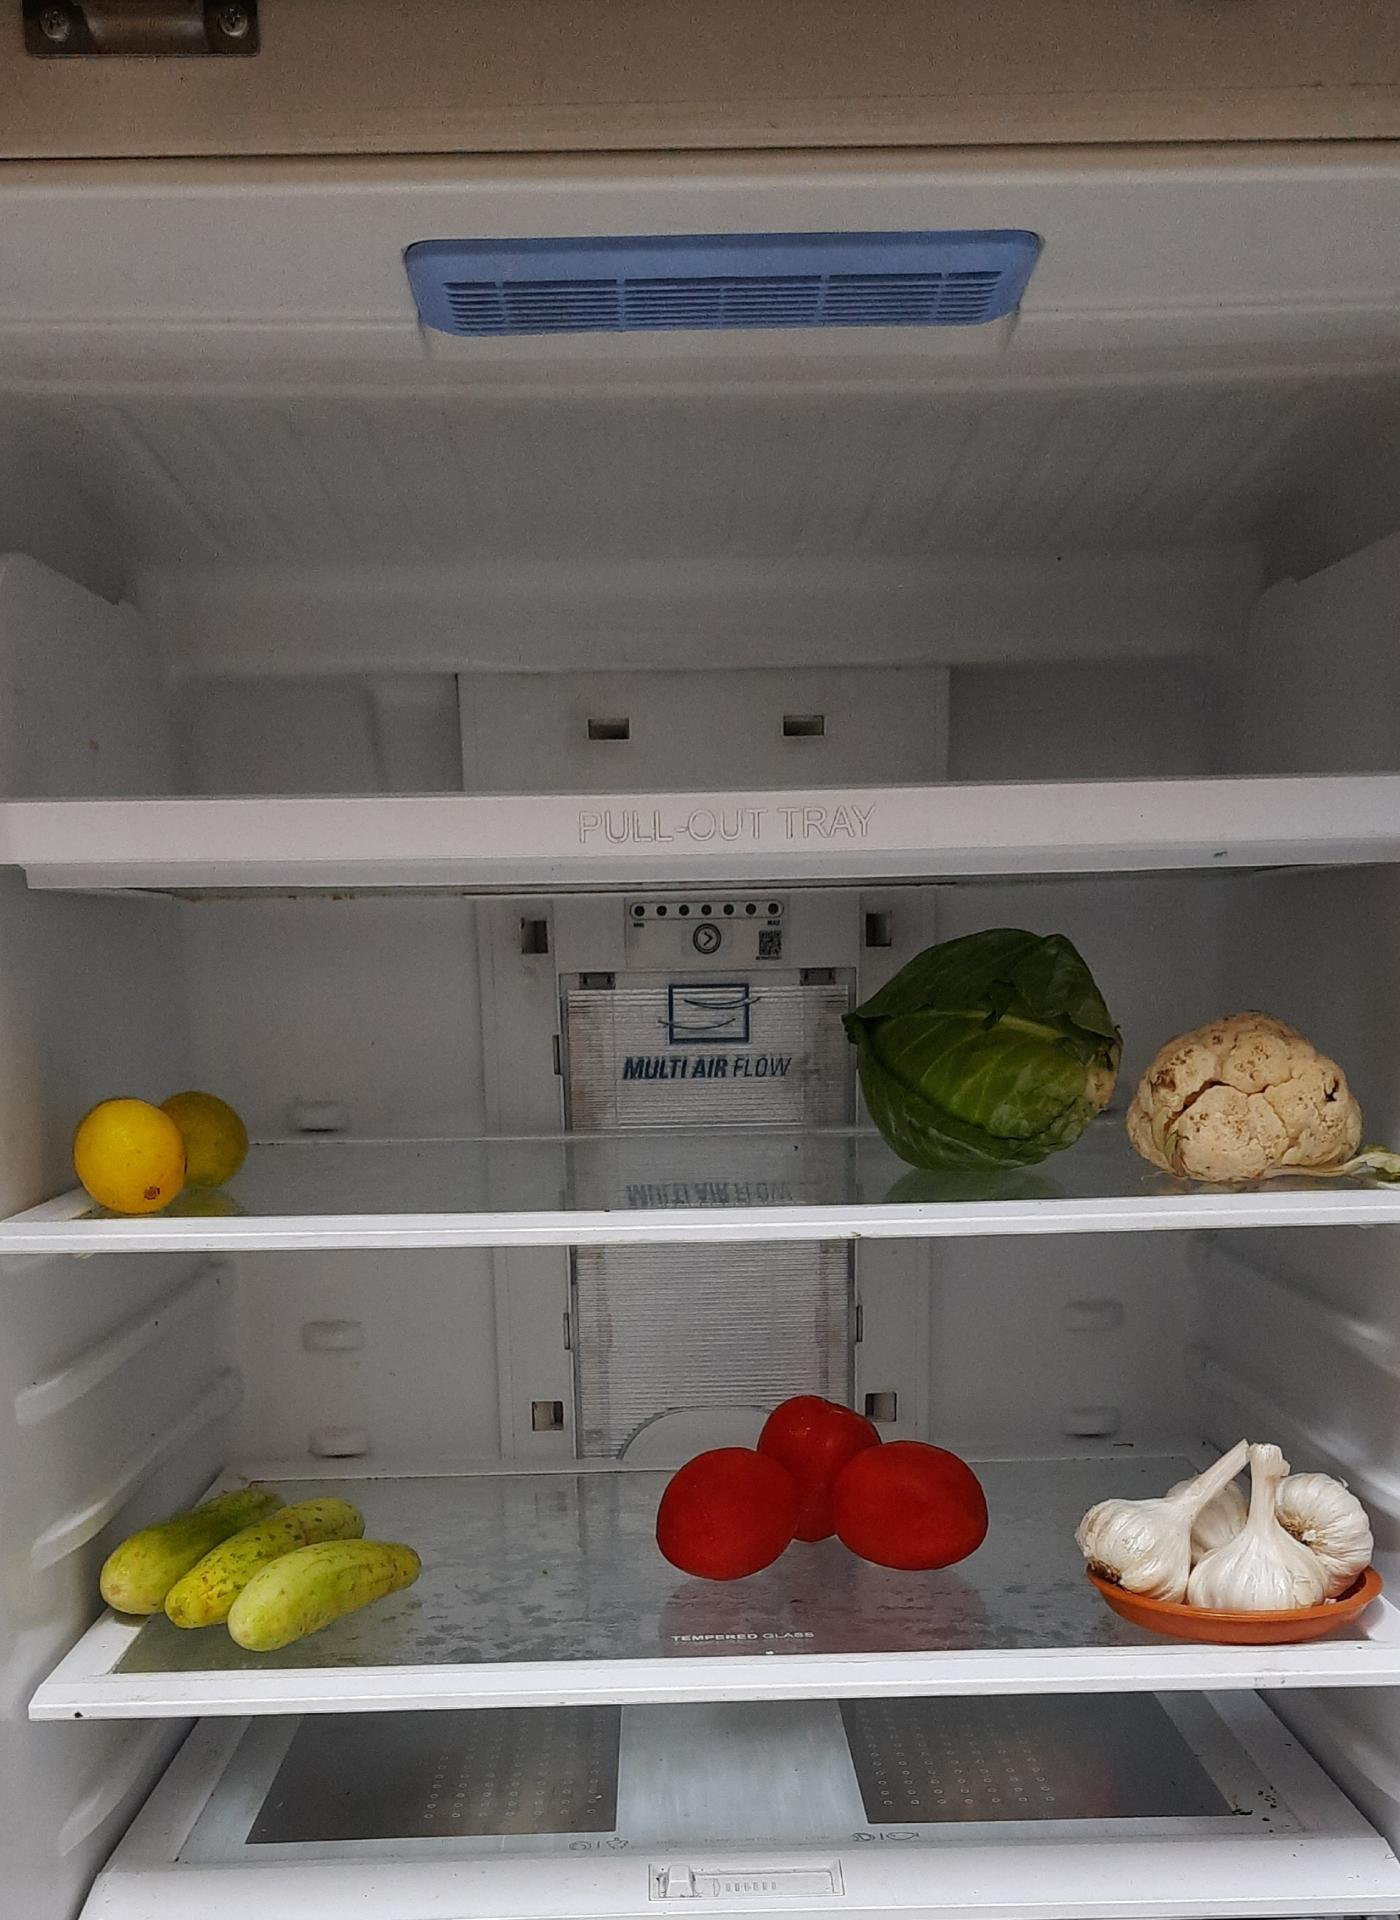cabbage: (844, 923, 1118, 1173)
cauliflower: (1127, 1011, 1366, 1181)
cucumber: (107, 1495, 428, 1653)
garlic: (1081, 1434, 1379, 1610)
lemon: (76, 1087, 253, 1206)
tomato: (653, 1395, 987, 1582)
